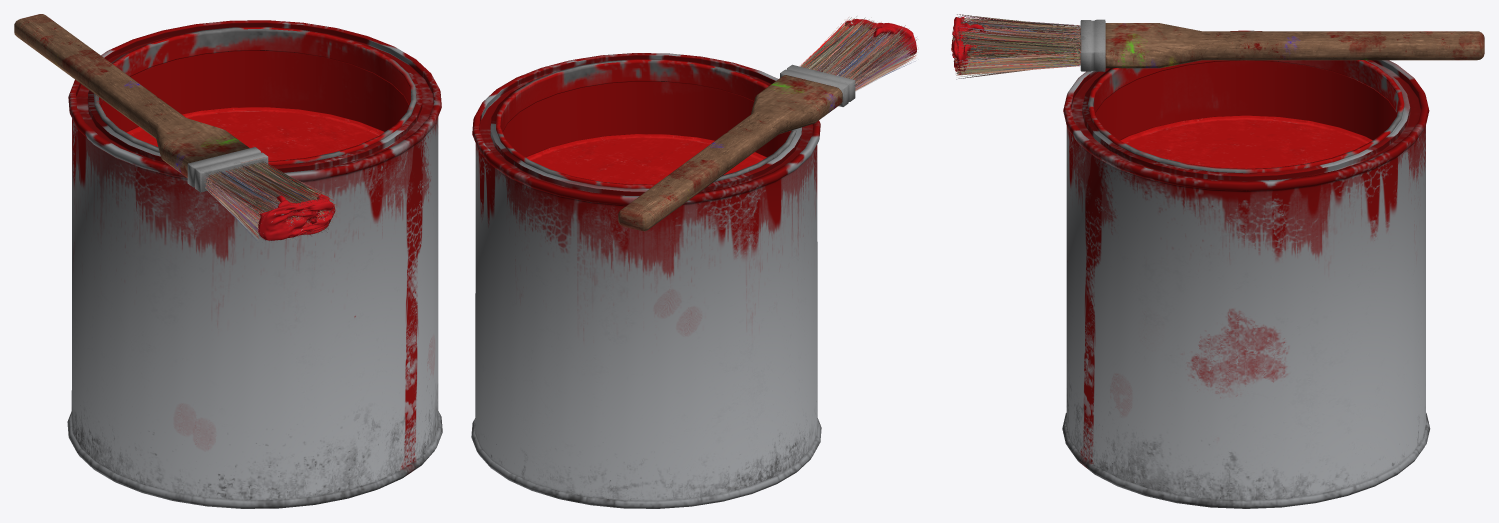
Rendered from paintcan__c.glb.
3 views of the same model, side by side, from view 1: azimuth 30°, elevation 25°; view 2: azimuth 150°, elevation 25°; view 3: azimuth 270°, elevation 25° (orthographic). The views are drawn at different scales.
Parts seen in each view (by area): view 1: Paint_0; view 2: Paint_0; view 3: Paint_0.
Boxes of the visible parts, bbox=[...] form: Paint_0: bbox=[14, 14, 442, 508]; Paint_0: bbox=[471, 16, 917, 508]; Paint_0: bbox=[951, 14, 1484, 508].
Bounding box in the file's own units: 2.05 × 2.19 × 2.98.
Materials: 1 (1 with a texture image).
